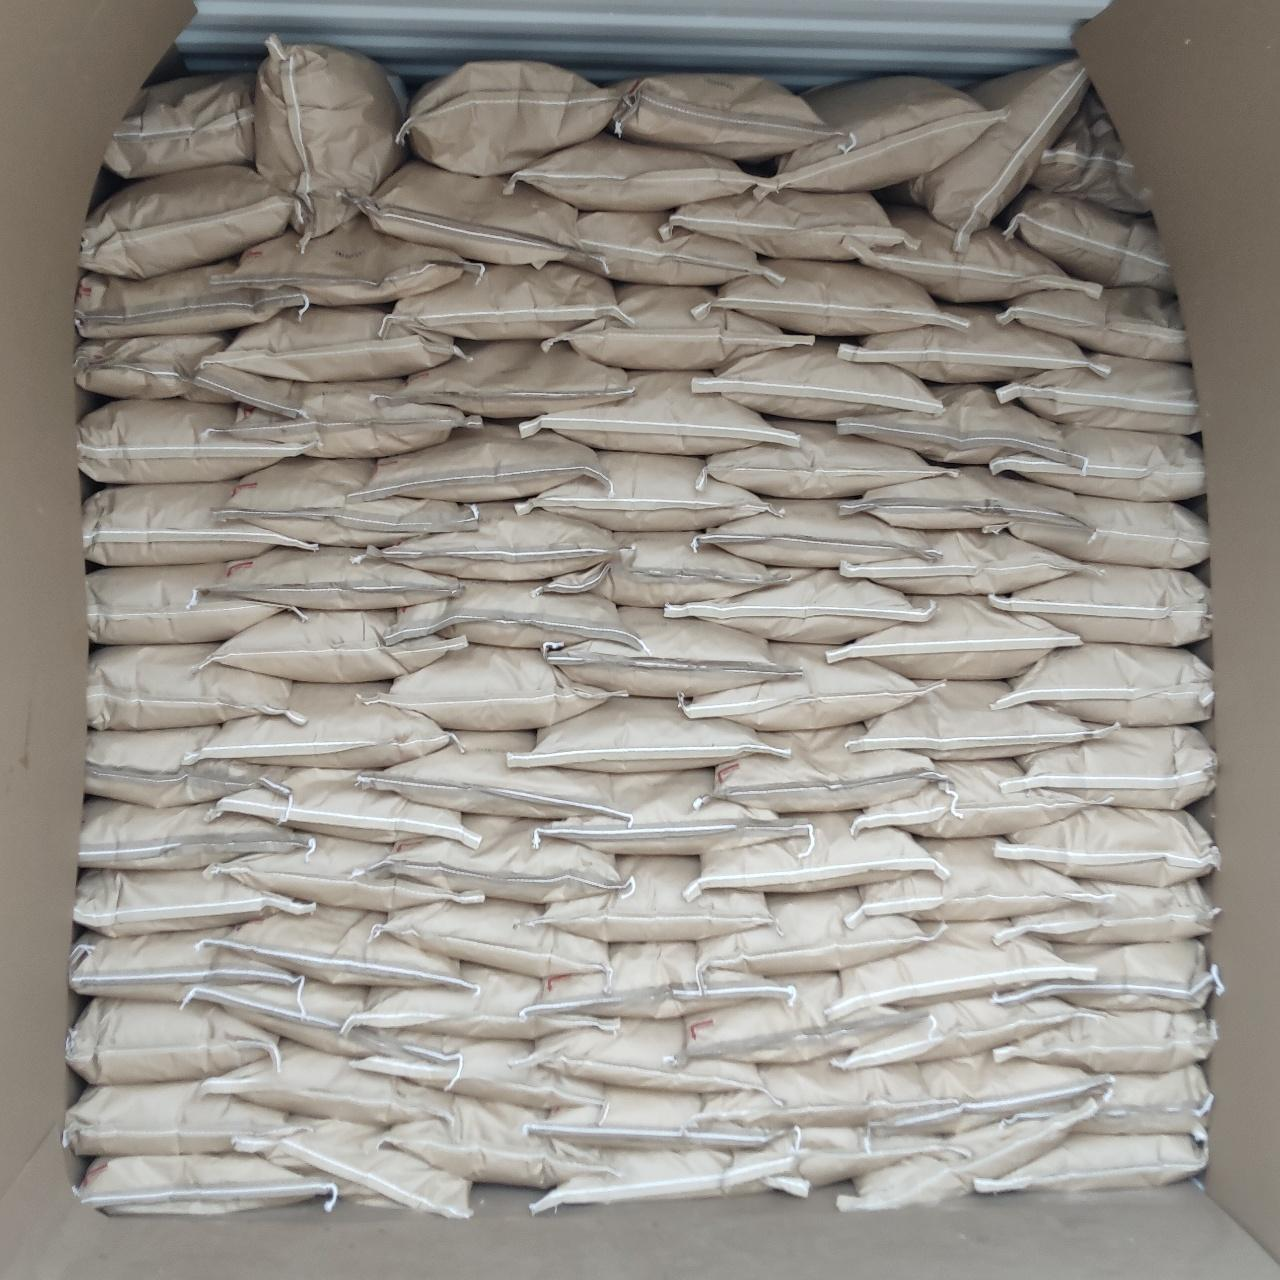sack: (906, 59, 1088, 252), (256, 34, 407, 252), (837, 1092, 1103, 1211), (343, 159, 610, 275), (825, 921, 1096, 1020), (777, 76, 1003, 191), (185, 978, 481, 1063), (211, 216, 484, 306), (352, 813, 628, 903), (400, 62, 618, 173), (845, 839, 1114, 928), (81, 165, 293, 278), (359, 731, 629, 819), (199, 907, 478, 992), (849, 207, 1099, 301), (213, 457, 476, 546), (535, 770, 810, 855), (520, 372, 799, 455), (234, 1121, 471, 1218), (542, 285, 813, 369), (183, 682, 454, 767), (549, 607, 799, 697), (685, 813, 948, 899), (382, 1094, 619, 1189), (366, 645, 628, 730), (682, 645, 945, 730), (206, 770, 481, 851), (516, 857, 772, 941), (837, 386, 1087, 472), (202, 380, 481, 457), (200, 1041, 459, 1124), (504, 134, 782, 211), (870, 1049, 1112, 1137), (826, 595, 1082, 679), (840, 304, 1110, 382), (207, 835, 485, 911), (506, 697, 788, 772), (352, 503, 620, 581), (517, 451, 781, 531), (341, 964, 620, 1039), (685, 974, 918, 1063), (697, 888, 931, 976), (692, 261, 967, 335), (847, 681, 1110, 758), (189, 608, 463, 682), (347, 425, 612, 502), (77, 399, 316, 483), (608, 75, 847, 159), (62, 1081, 328, 1156), (540, 532, 806, 607), (205, 306, 465, 382), (701, 417, 941, 499), (665, 571, 935, 644), (531, 942, 792, 1017), (381, 263, 634, 340), (84, 482, 319, 565), (851, 760, 1103, 837), (832, 998, 1104, 1069), (692, 341, 940, 418), (367, 899, 608, 978), (87, 642, 305, 729), (386, 342, 633, 418), (76, 335, 302, 418), (529, 1148, 810, 1214), (64, 998, 280, 1084), (659, 188, 919, 259), (508, 1020, 764, 1091), (717, 726, 933, 810), (188, 547, 464, 613), (700, 1058, 964, 1126), (75, 259, 302, 338), (839, 467, 1092, 537), (998, 644, 1213, 726), (988, 566, 1208, 646), (999, 726, 1216, 806), (383, 581, 640, 649), (70, 927, 302, 1002), (995, 809, 1219, 886), (350, 1041, 602, 1109), (1003, 189, 1173, 290), (692, 501, 938, 568), (74, 869, 315, 937), (87, 726, 288, 806), (80, 799, 315, 869), (87, 563, 286, 644), (76, 1155, 340, 1216), (992, 425, 1203, 501), (525, 1087, 779, 1149), (577, 211, 783, 287), (105, 74, 254, 179), (839, 531, 1081, 594), (1002, 940, 1214, 1012), (723, 1126, 969, 1187), (1030, 88, 1148, 213), (998, 361, 1198, 434), (1009, 496, 1208, 568), (998, 287, 1189, 362), (974, 1133, 1207, 1192), (999, 1010, 1217, 1073), (1002, 881, 1217, 942), (1076, 1064, 1213, 1139)
